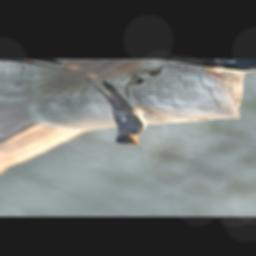Swallow: (30, 73, 197, 153)
